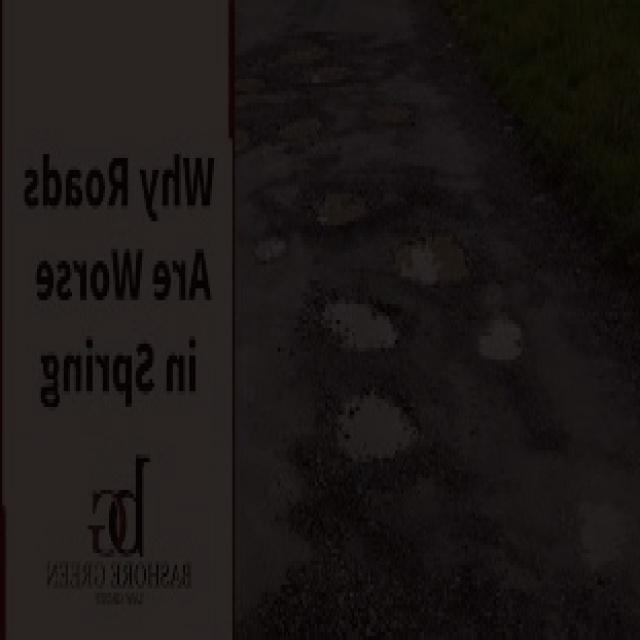Pothole: (321, 375, 429, 471), (308, 284, 407, 373), (381, 225, 480, 295), (463, 299, 532, 372), (306, 182, 376, 236), (268, 108, 330, 144), (300, 64, 364, 90), (364, 97, 414, 129), (233, 73, 271, 113), (252, 231, 294, 267), (284, 40, 335, 64), (237, 117, 257, 167)
